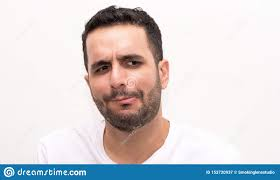white_male: (86, 33, 162, 122)
